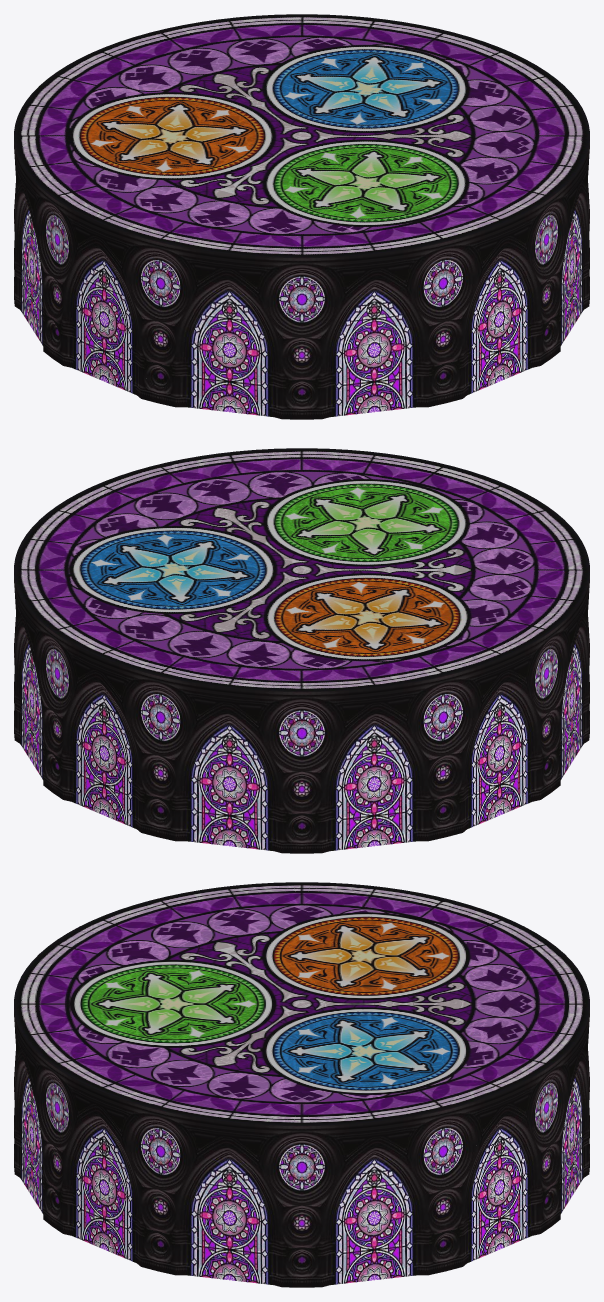
File: station.glb
3 renders of one model, top to bottom at view 1: azimuth 30°, elevation 25°; view 2: azimuth 150°, elevation 25°; view 3: azimuth 270°, elevation 25°, orthographic.
Visible parts, largest first — view 1: Mesh_0013_Mesh_0013Mesh, Mesh_0021_Mesh_0021Mesh, Mesh_0020_Mesh_0020Mesh, Mesh_0019_Mesh_0019Mesh, Mesh_0022_Mesh_0022Mesh, Mesh_0007_Mesh_0007Mesh, Mesh_0011_Mesh_0011Mesh, Mesh_0012_Mesh_0012Mesh, Mesh_0018_Mesh_0018Mesh; view 2: Mesh_0013_Mesh_0013Mesh, Mesh_0019_Mesh_0019Mesh, Mesh_0022_Mesh_0022Mesh, Mesh_0020_Mesh_0020Mesh, Mesh_0021_Mesh_0021Mesh, Mesh_0007_Mesh_0007Mesh, Mesh_0011_Mesh_0011Mesh, Mesh_0012_Mesh_0012Mesh, Mesh_0018_Mesh_0018Mesh, Mesh_0008_Mesh_0008Mesh; view 3: Mesh_0013_Mesh_0013Mesh, Mesh_0019_Mesh_0019Mesh, Mesh_0021_Mesh_0021Mesh, Mesh_0020_Mesh_0020Mesh, Mesh_0022_Mesh_0022Mesh, Mesh_0007_Mesh_0007Mesh, Mesh_0011_Mesh_0011Mesh, Mesh_0012_Mesh_0012Mesh, Mesh_0008_Mesh_0008Mesh, Mesh_0018_Mesh_0018Mesh.
Boxes of the visible parts, <box> form: Mesh_0013_Mesh_0013Mesh: <box>20,208,583,417</box>; Mesh_0021_Mesh_0021Mesh: <box>158,14,550,135</box>; Mesh_0020_Mesh_0020Mesh: <box>53,136,445,257</box>; Mesh_0019_Mesh_0019Mesh: <box>302,75,589,241</box>; Mesh_0022_Mesh_0022Mesh: <box>14,30,301,196</box>; Mesh_0007_Mesh_0007Mesh: <box>14,141,589,419</box>; Mesh_0011_Mesh_0011Mesh: <box>14,183,589,419</box>; Mesh_0012_Mesh_0012Mesh: <box>16,190,589,360</box>; Mesh_0018_Mesh_0018Mesh: <box>14,277,589,408</box>; Mesh_0013_Mesh_0013Mesh: <box>20,642,583,851</box>; Mesh_0019_Mesh_0019Mesh: <box>53,448,445,569</box>; Mesh_0022_Mesh_0022Mesh: <box>158,570,550,691</box>; Mesh_0020_Mesh_0020Mesh: <box>302,464,589,630</box>; Mesh_0021_Mesh_0021Mesh: <box>14,509,301,675</box>; Mesh_0007_Mesh_0007Mesh: <box>14,575,589,853</box>; Mesh_0011_Mesh_0011Mesh: <box>14,617,589,853</box>; Mesh_0012_Mesh_0012Mesh: <box>16,632,567,794</box>; Mesh_0018_Mesh_0018Mesh: <box>14,711,589,842</box>; Mesh_0008_Mesh_0008Mesh: <box>14,590,150,799</box>; Mesh_0013_Mesh_0013Mesh: <box>20,1076,583,1285</box>; Mesh_0019_Mesh_0019Mesh: <box>14,1004,301,1125</box>; Mesh_0021_Mesh_0021Mesh: <box>302,1004,589,1125</box>; Mesh_0020_Mesh_0020Mesh: <box>14,882,301,1003</box>; Mesh_0022_Mesh_0022Mesh: <box>302,882,589,1003</box>; Mesh_0007_Mesh_0007Mesh: <box>14,1009,589,1287</box>; Mesh_0011_Mesh_0011Mesh: <box>14,1051,589,1287</box>; Mesh_0012_Mesh_0012Mesh: <box>16,1066,567,1228</box>; Mesh_0008_Mesh_0008Mesh: <box>119,1017,589,1287</box>; Mesh_0018_Mesh_0018Mesh: <box>14,1144,589,1276</box>.
Size of the model in its own units: 8.99 by 2.79 by 8.99.
Materials: 10 (10 with a texture image).
